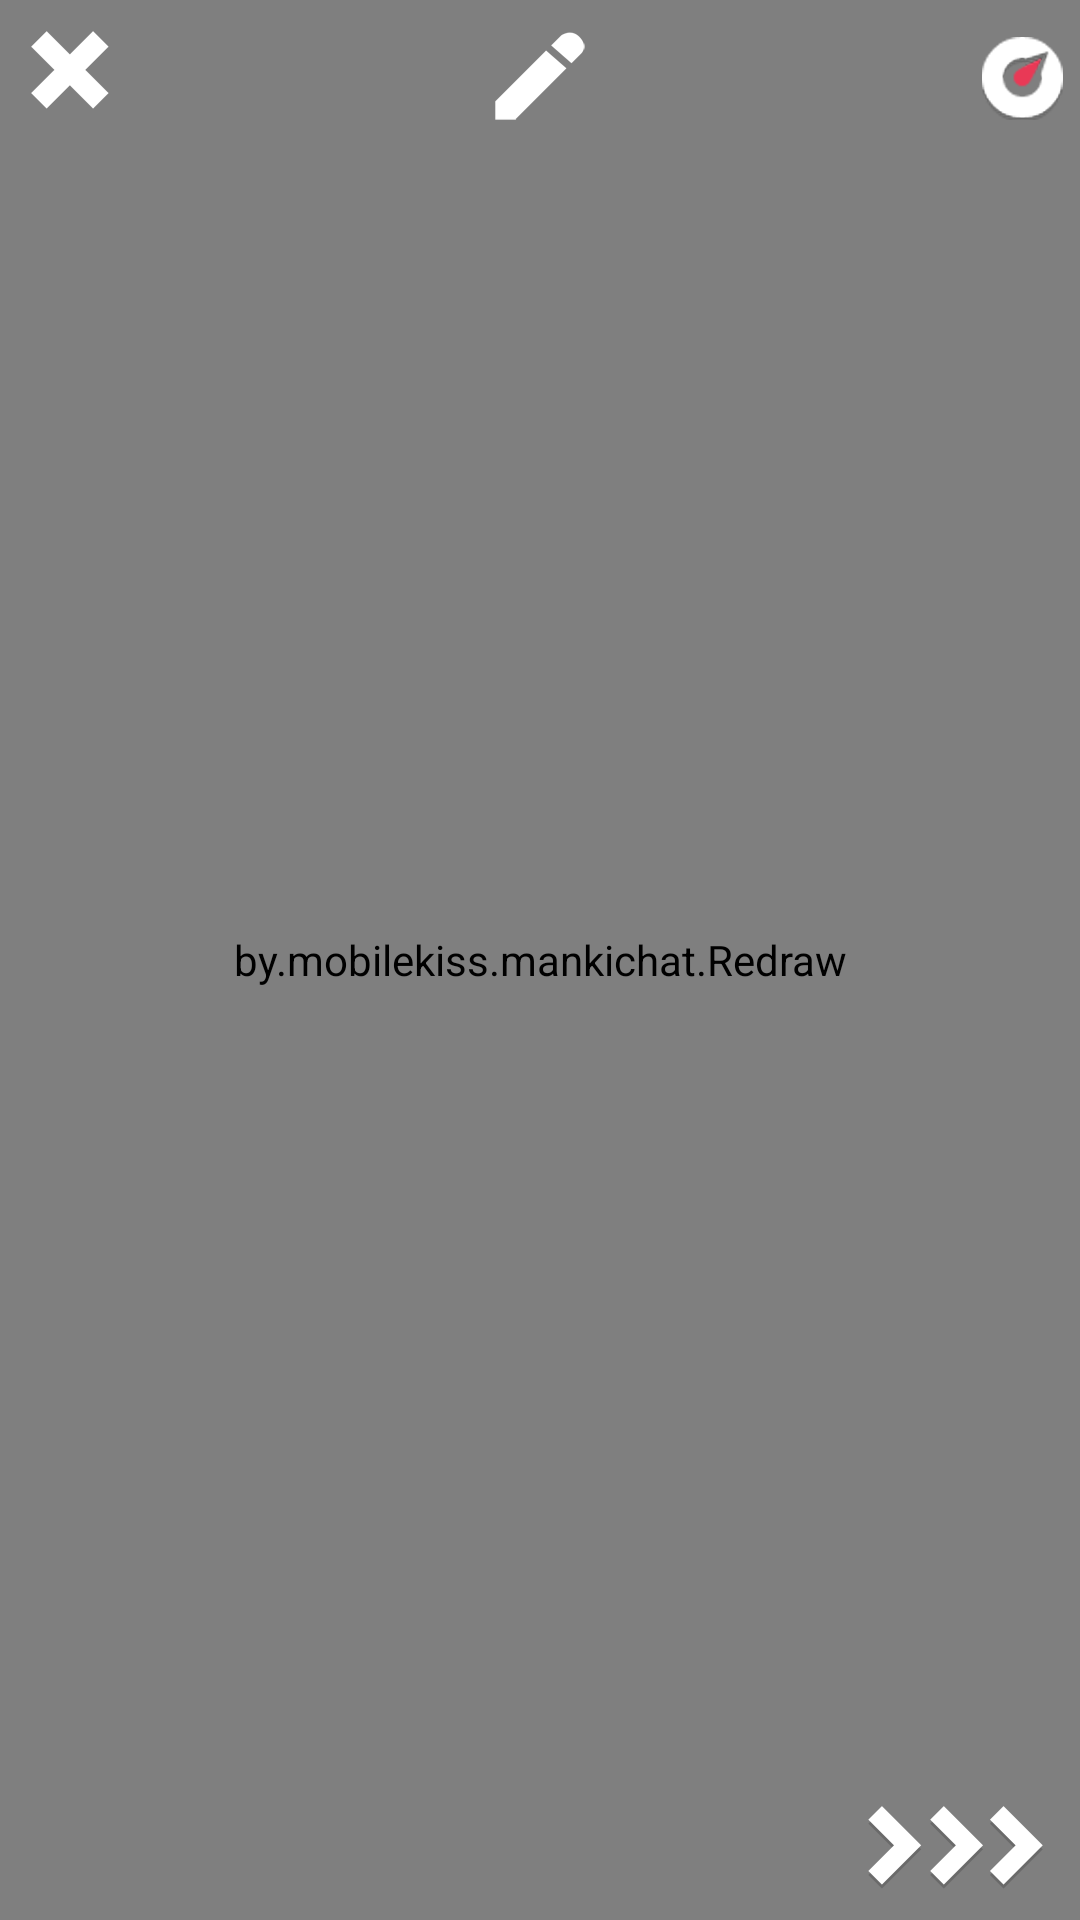

Screen size 1080px x 1920px. Icon name, then its box in pixels as (x1, y1, x2, y2):
prepost close: (31, 31, 109, 109)
prepost draw: (495, 32, 585, 120)
prepost form send: (868, 1806, 1043, 1885)
prepost timer: (982, 37, 1063, 118)
